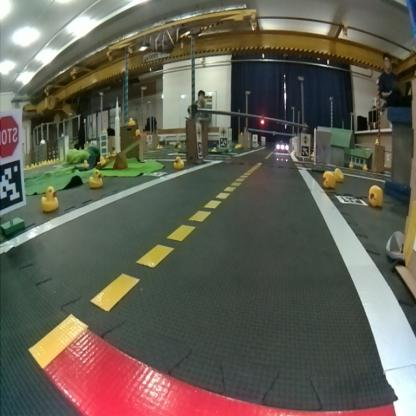Duckie: (42, 186, 58, 210), (369, 184, 384, 206), (90, 168, 102, 186), (324, 172, 336, 186), (174, 155, 184, 167), (336, 168, 344, 180), (375, 137, 380, 145), (362, 164, 368, 170), (350, 160, 354, 166), (130, 119, 134, 124)
Duckiebot: (277, 142, 289, 151)
Intersection sign: (221, 127, 226, 135)
QR code: (1, 158, 24, 209), (336, 195, 368, 203), (221, 139, 228, 147), (303, 148, 309, 156)
Signal sign: (302, 133, 310, 143)
Traffic light: (260, 116, 266, 125)
